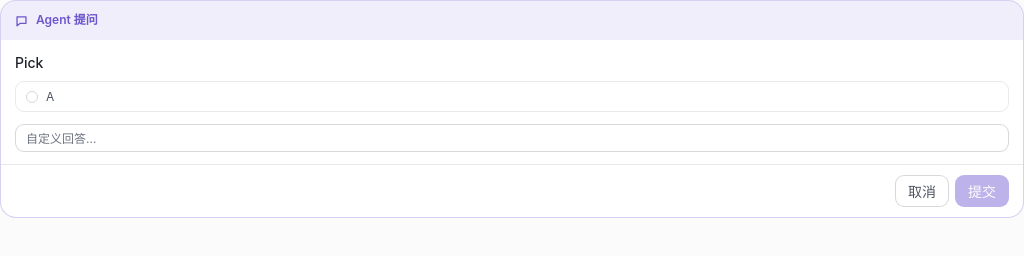
Scenario: InteractionDeck real cards › failed cancel keeps the card and exposes Retry
Click the button "取消".
click(922, 191)  # box [895,175,949,207]
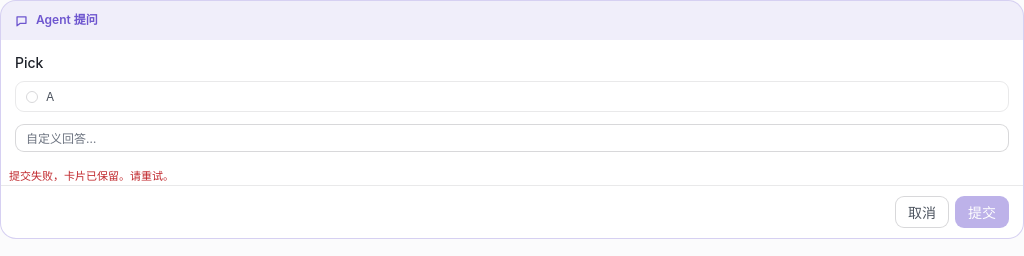
Expected: the button "取消" is shown, [895,196,949,228]
Now the text "提交失败，卡片已保留。请重试。" is shown, box [9,169,174,183]
